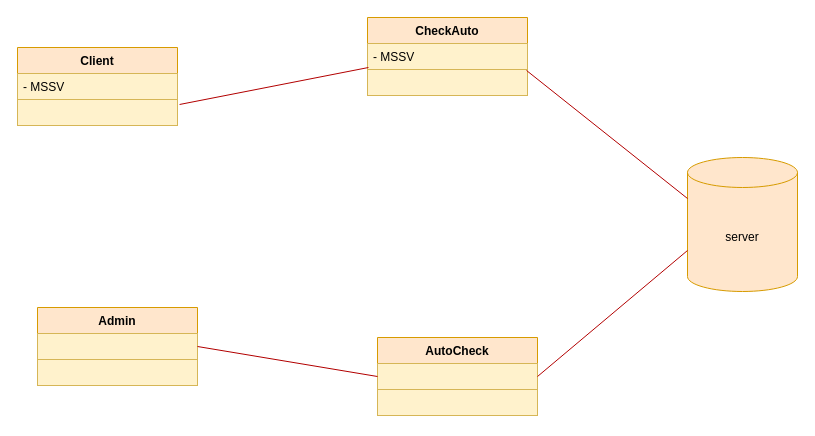
Image size: 815x436. Some labels were removed from this diagram. The box of each missing label's shape, as (x1, y1, x2, y2) in pixels:
+ click button "Load data": (36, 358, 198, 386)
+ get data and display: (376, 388, 538, 416)
+ input MSSV: (16, 98, 178, 126)
+ receive and save data: (366, 68, 528, 96)
